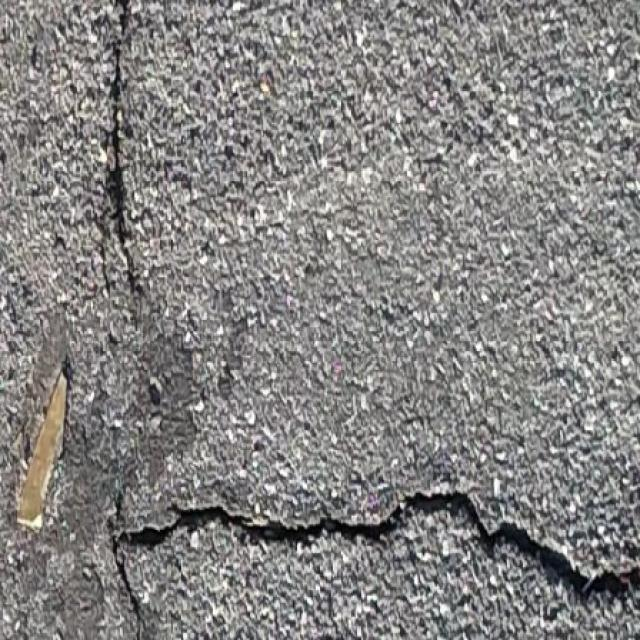Diagonal Crack: (98, 475, 640, 634), (98, 0, 166, 321)
